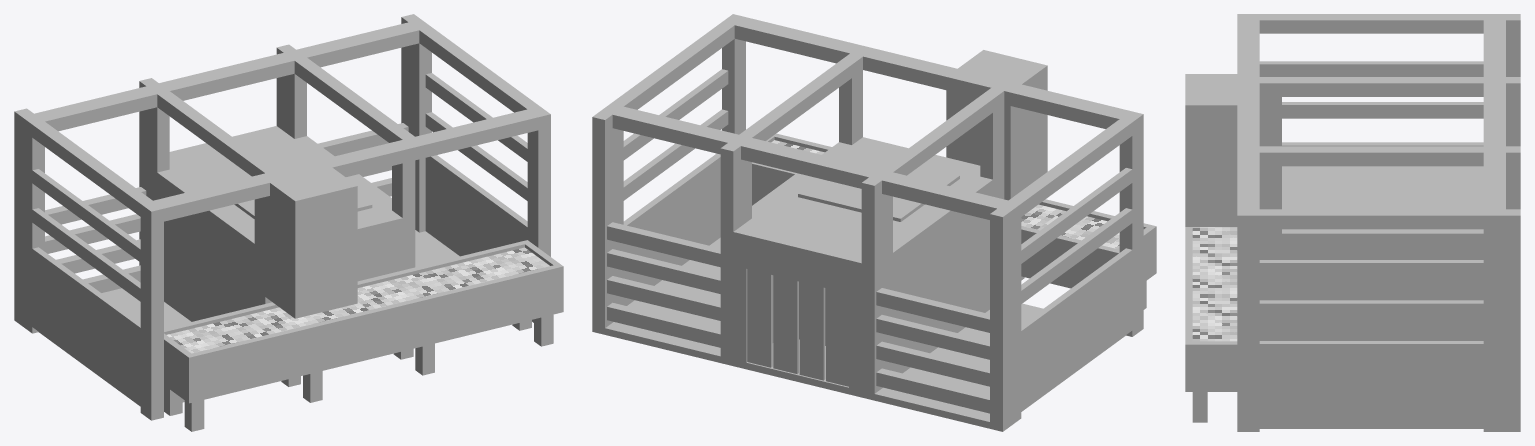
Rendered from breeder.obj.
The picture shows the model from 3 angles, left to right: view 1: azimuth 30°, elevation 25°; view 2: azimuth 150°, elevation 25°; view 3: azimuth 270°, elevation 25°; orthographic projection. The views are drawn at different scales.
Visible parts, largest first — view 1: frame, feed, gate_left, gate_right; view 2: frame, curtain, gate_right, gate_left, feed; view 3: frame, feed.
Part boxes in pixels (x1,y1,x2,y2): frame: (14, 14, 563, 431); feed: (167, 247, 549, 353); gate_left: (45, 187, 146, 292); gate_right: (318, 123, 408, 196); frame: (592, 14, 1156, 431); curtain: (747, 269, 848, 386); gate_right: (607, 222, 720, 347); gate_left: (876, 288, 989, 413); feed: (771, 140, 1119, 248); frame: (1185, 14, 1520, 431); feed: (1192, 227, 1237, 341).
Bounding box in the file's own units: 4 × 2 × 2.81.
